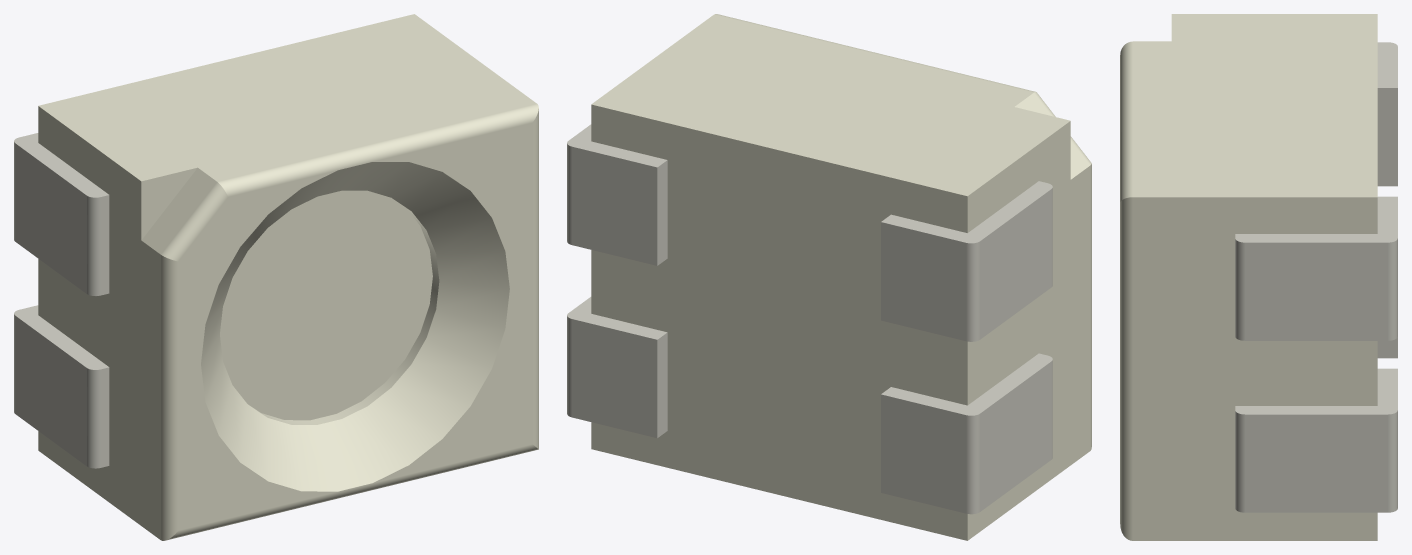
File: LED_RGB_4pin_PLCC4.glb
3 views of the same model, side by side, from view 1: azimuth 30°, elevation 25°; view 2: azimuth 150°, elevation 25°; view 3: azimuth 270°, elevation 25° (orthographic).
Parts seen in each view (by area): view 1: LED_RGB_Wuerth-PLCC4_3.2x2.8mm_150141M173100; view 2: LED_RGB_Wuerth-PLCC4_3.2x2.8mm_150141M173100; view 3: LED_RGB_Wuerth-PLCC4_3.2x2.8mm_150141M173100.
Part boxes in pixels (x1,y1,x2,y2): LED_RGB_Wuerth-PLCC4_3.2x2.8mm_150141M173100: [14, 14, 538, 540]; LED_RGB_Wuerth-PLCC4_3.2x2.8mm_150141M173100: [567, 14, 1091, 540]; LED_RGB_Wuerth-PLCC4_3.2x2.8mm_150141M173100: [1120, 14, 1397, 540].
Bounding box in the file's own units: 0.0035 × 0.0028 × 0.00205.
